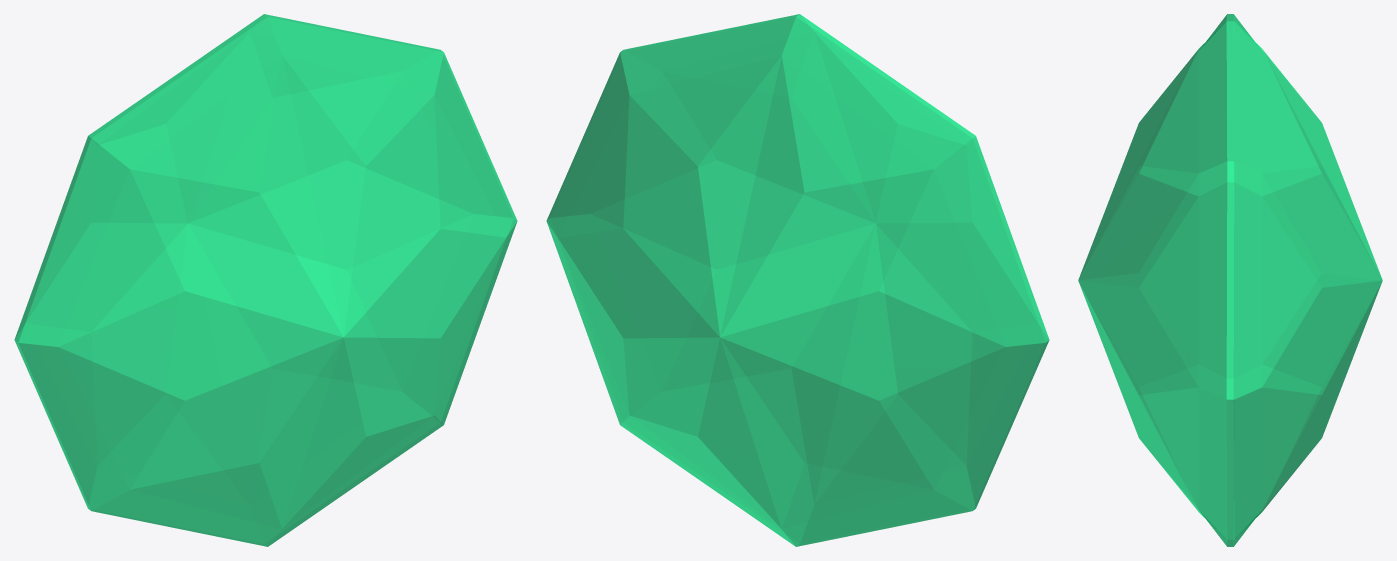
File: rose peridot.glb
The picture shows the model from 3 angles, left to right: view 1: azimuth 30°, elevation 25°; view 2: azimuth 150°, elevation 25°; view 3: azimuth 270°, elevation 25°; orthographic projection. The views are drawn at different scales.
Parts seen in each view (by area): view 1: Cross Rose; view 2: Cross Rose; view 3: Cross Rose.
Part boxes in pixels (x1,y1,x2,y2): Cross Rose: (14, 14, 517, 546); Cross Rose: (546, 14, 1049, 546); Cross Rose: (1078, 14, 1382, 546).
Bounding box in the file's own units: 1.74 × 1.76 × 0.9396.
